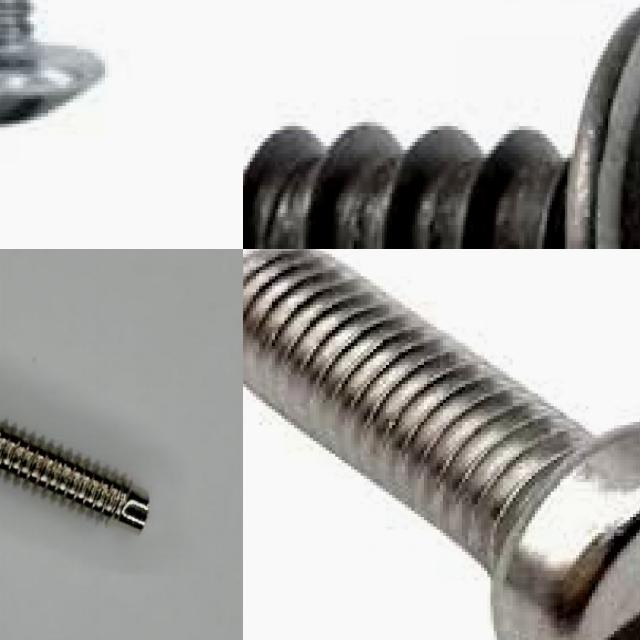Screw: (243, 249, 640, 640), (243, 9, 640, 249), (0, 419, 148, 529)
